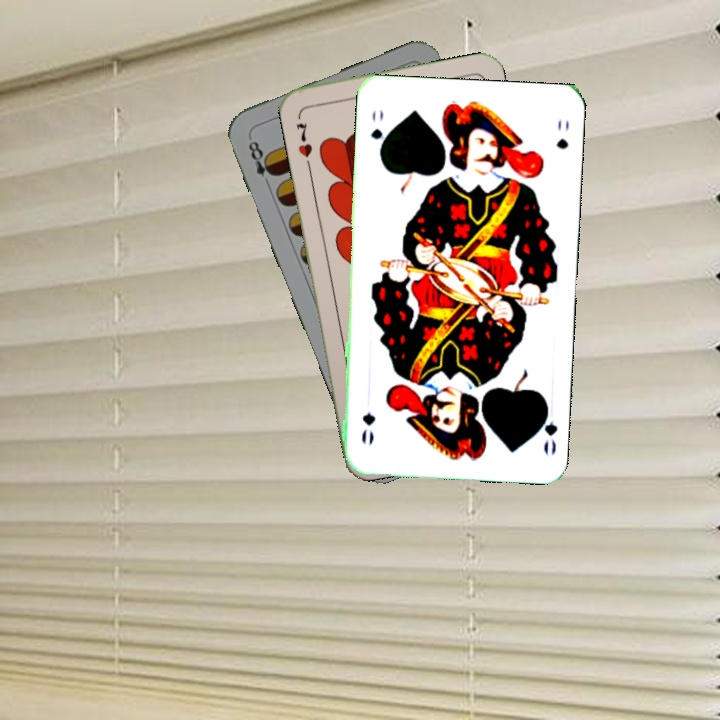E8: (244, 133, 279, 190)
GO: (533, 399, 560, 458), (367, 105, 389, 159)
H7: (292, 118, 315, 160)
